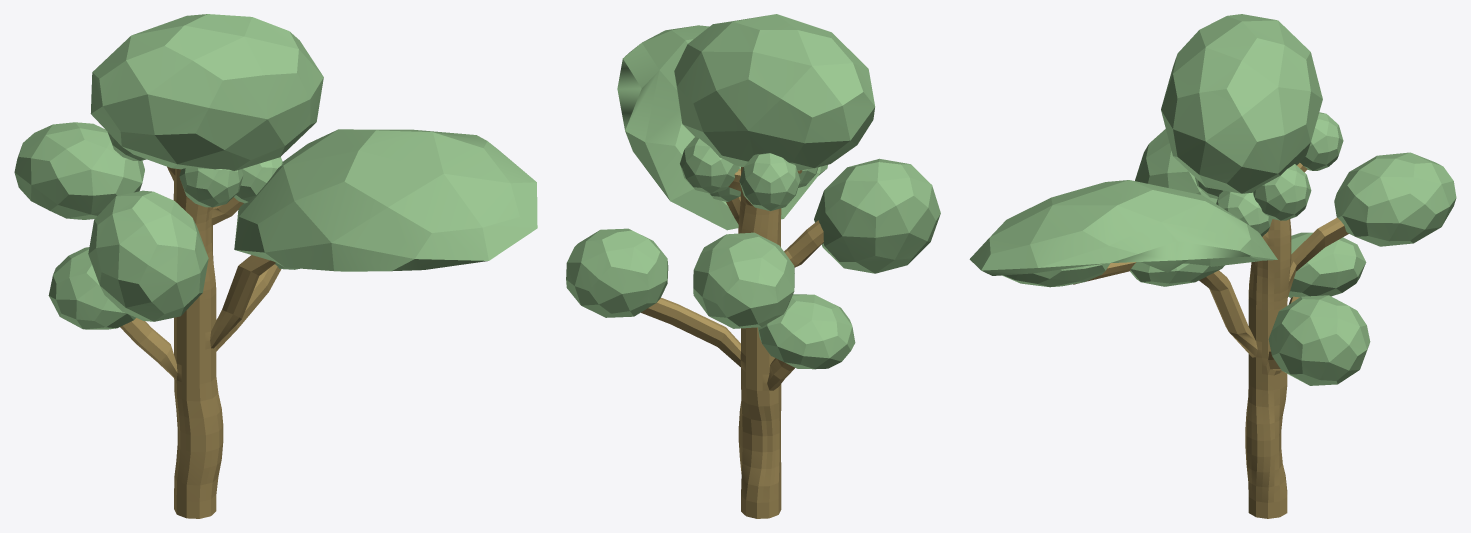
File: Treeb1.fbx
The picture shows the model from 3 angles, left to right: view 1: azimuth 30°, elevation 25°; view 2: azimuth 150°, elevation 25°; view 3: azimuth 270°, elevation 25°; orthographic projection. The views are drawn at different scales.
Parts seen in each view (by area): view 1: Tree4; view 2: Tree4; view 3: Tree4.
Part boxes in pixels (x1,y1,x2,y2): Tree4: [14, 14, 537, 518]; Tree4: [566, 14, 940, 518]; Tree4: [969, 14, 1456, 518].
Size of the model in its own units: 4.89 by 6.5 by 6.01.
